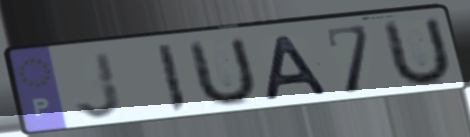7: (324, 22, 372, 96)
A: (260, 32, 333, 103)
I: (153, 41, 190, 116)
J: (72, 49, 126, 122)
U: (187, 34, 260, 111), (382, 14, 455, 91)
